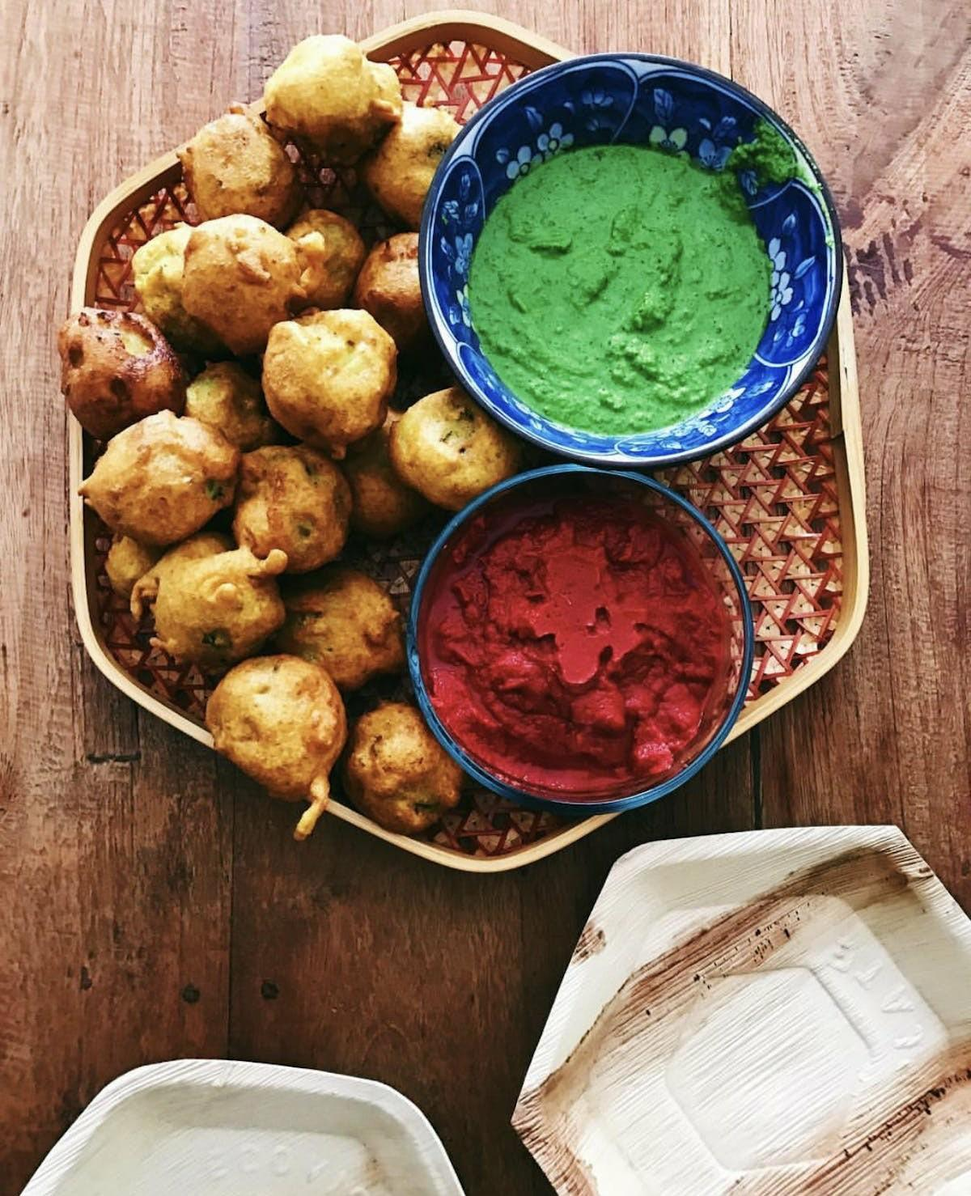GreenChutney: (470, 142, 766, 438)
